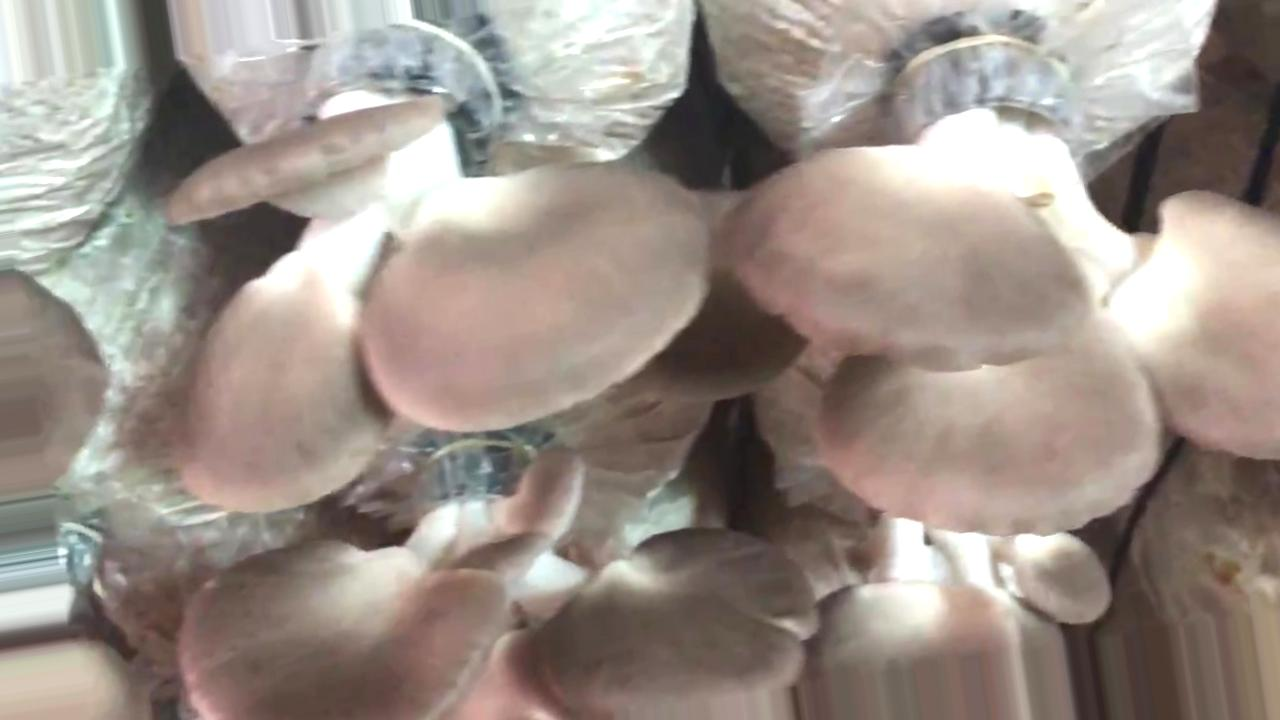nam: (728, 37, 1280, 530), (175, 17, 709, 512), (182, 442, 817, 720), (618, 188, 809, 393)
